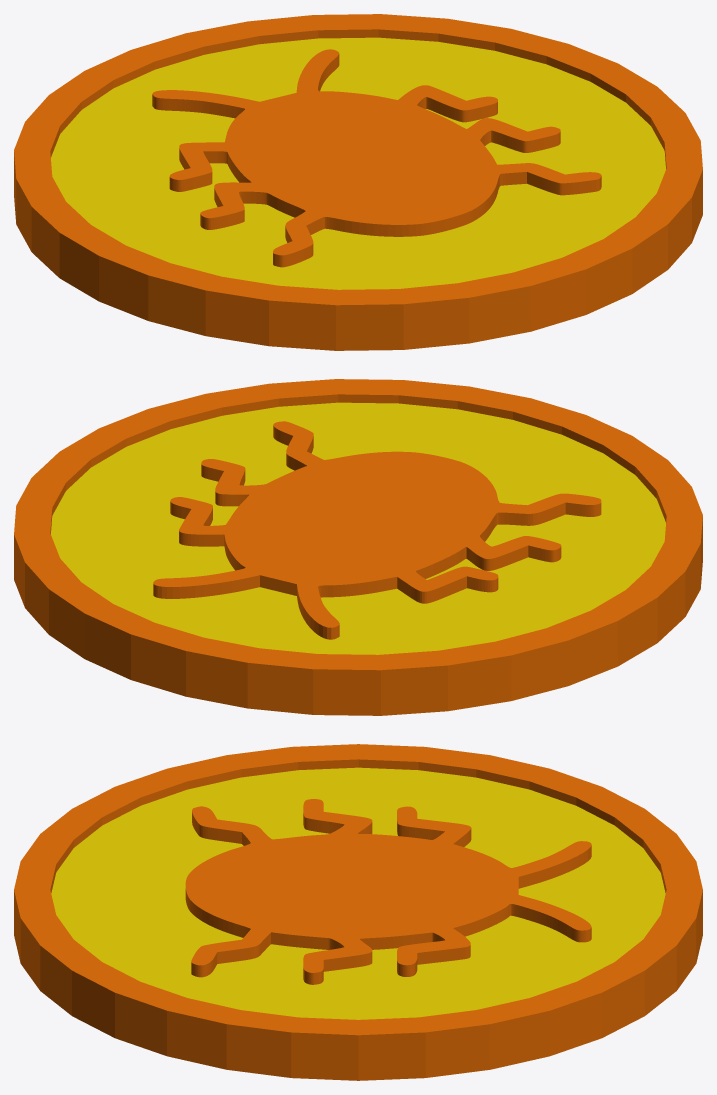
File: bug_coin.glb
3 renders of one model, top to bottom at view 1: azimuth 30°, elevation 25°; view 2: azimuth 150°, elevation 25°; view 3: azimuth 270°, elevation 25°, orthographic.
Visible parts, largest first — view 1: path854; view 2: path854; view 3: path854.
Boxes of the visible parts, x1,y1,x2,y2 form: path854: [14, 14, 702, 350]; path854: [14, 379, 702, 715]; path854: [14, 744, 702, 1080].
Size of the model in its own units: 1.52 by 0.1197 by 1.52.
